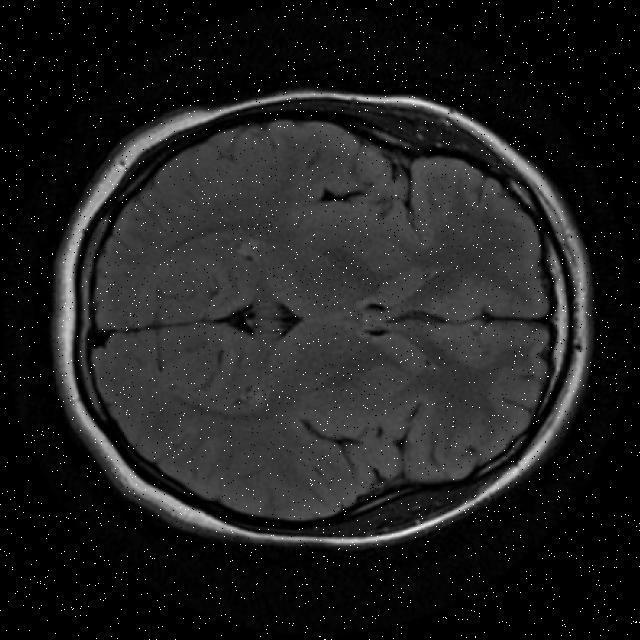No_Tumor: (53, 91, 591, 546)
